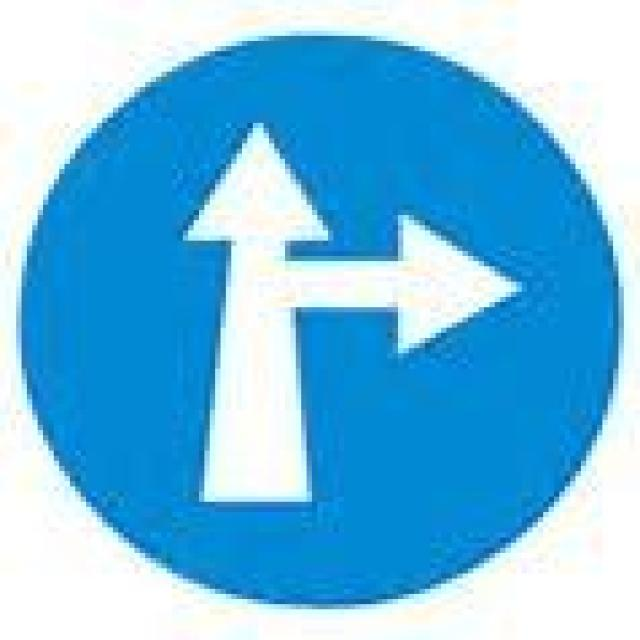compulsory_ahead_or_left: (11, 21, 624, 610)
